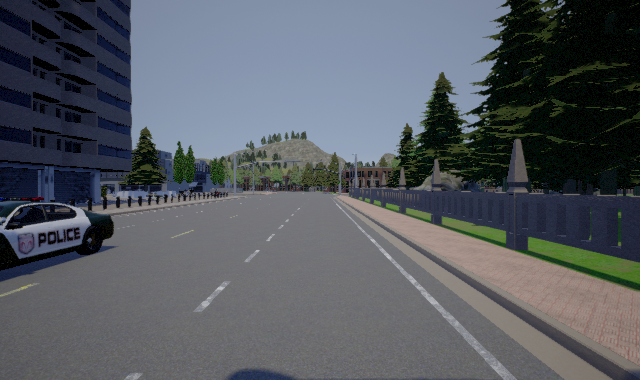vehicle: (1, 197, 114, 271)
